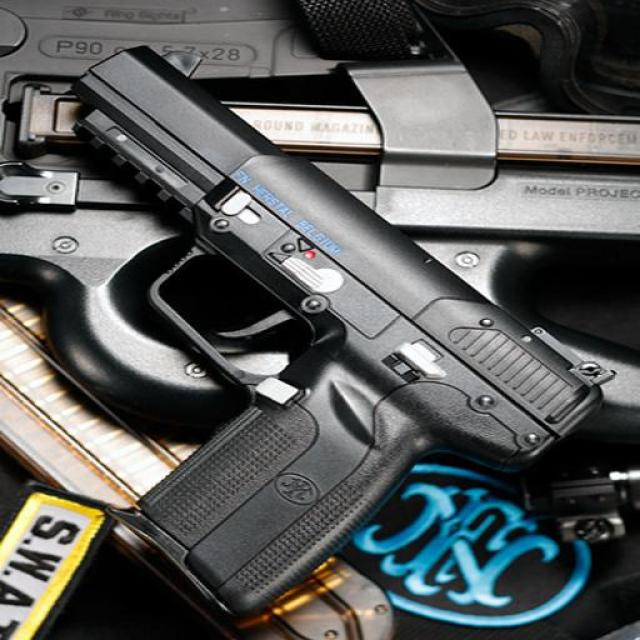pistol: (61, 44, 616, 623)
